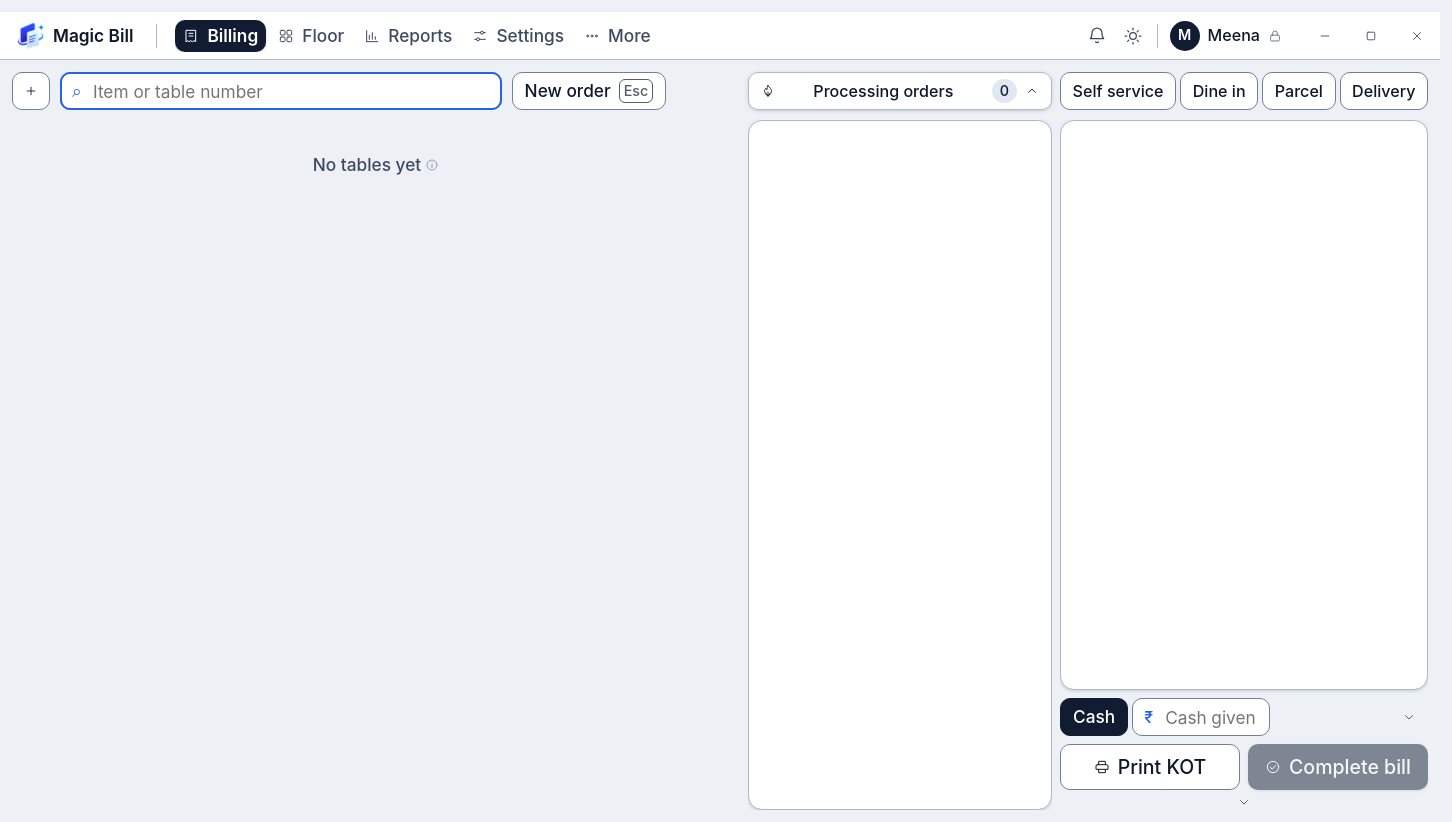
opens the full dashboard from the logo without a More or Reports rail
Click the button with aria-label "Magic Bill dashboard". click: (75, 36)
box: [12,16,138,54]
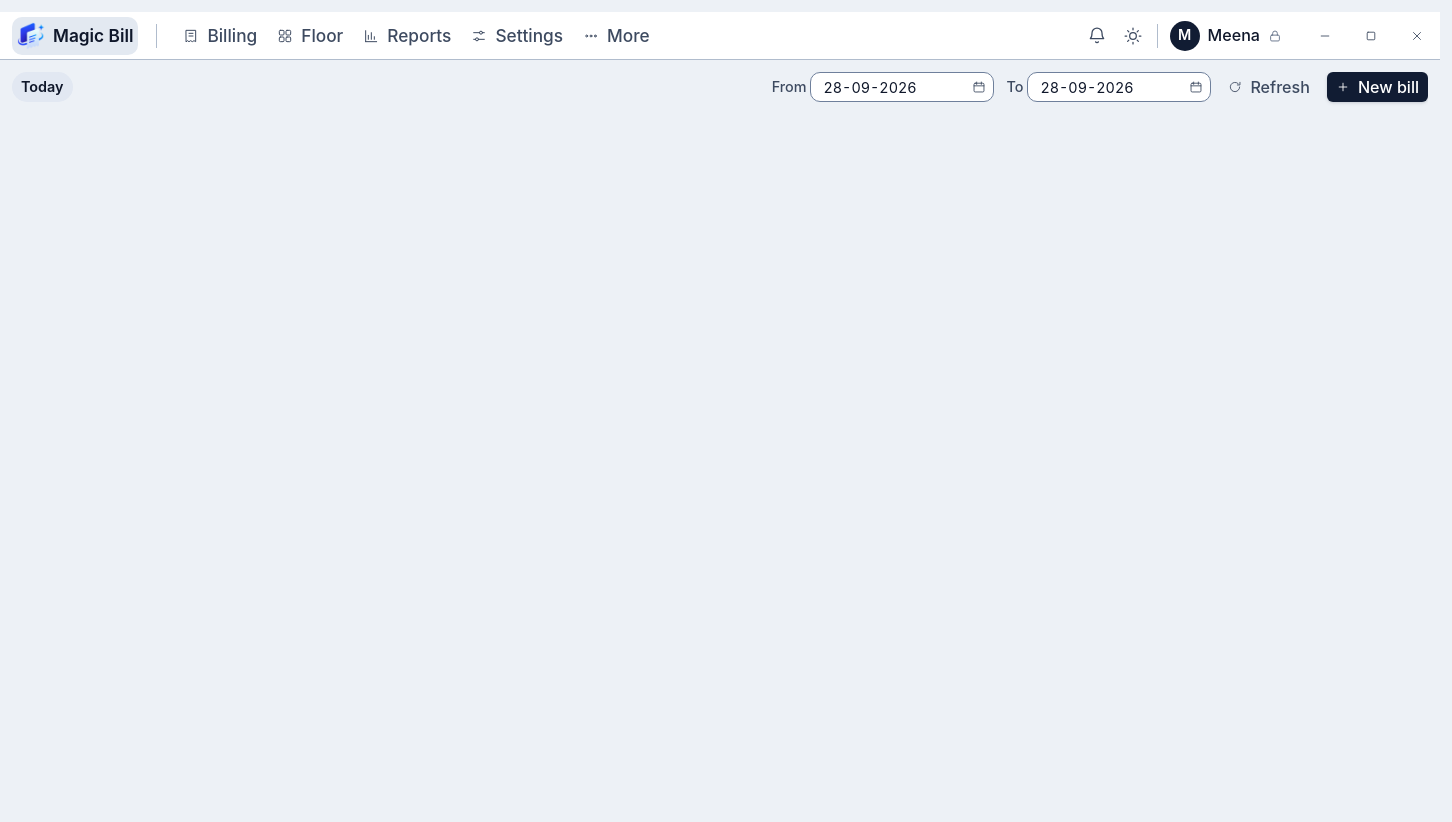
Expected: the element named "Dashboard period" is shown, [12,72,72,102]
